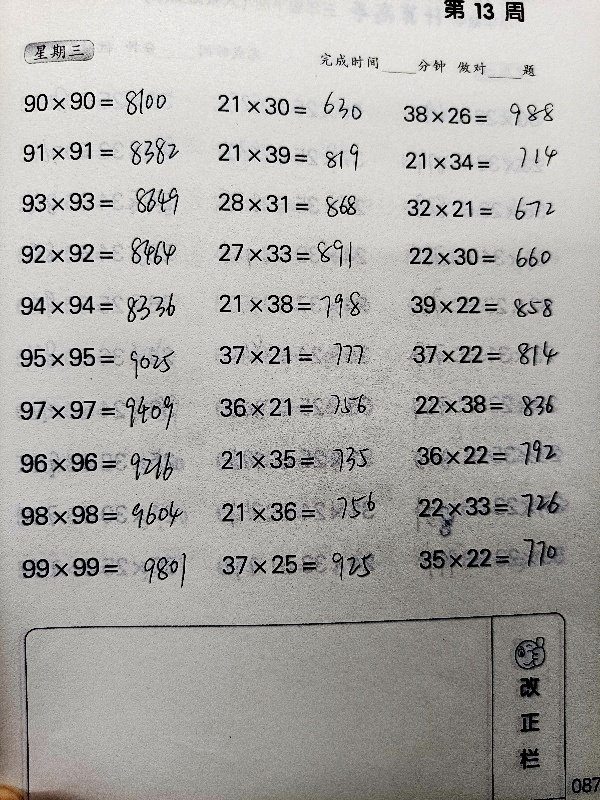equation: (12, 388, 192, 438), (210, 228, 390, 272), (15, 83, 195, 124), (410, 540, 590, 576), (13, 549, 193, 584), (214, 494, 394, 529), (11, 445, 191, 480), (212, 390, 392, 425), (12, 235, 192, 270), (410, 487, 565, 527), (213, 547, 393, 581), (12, 497, 192, 531), (212, 442, 392, 476), (408, 438, 588, 472), (406, 387, 586, 421), (11, 340, 191, 374), (211, 338, 391, 372), (403, 288, 583, 322), (12, 288, 192, 322), (211, 287, 391, 321), (13, 185, 193, 219), (14, 134, 194, 168), (405, 338, 585, 371), (401, 240, 581, 273), (210, 186, 390, 219), (209, 137, 389, 170), (395, 99, 575, 132), (209, 89, 389, 122), (398, 192, 578, 224), (397, 145, 577, 177)
